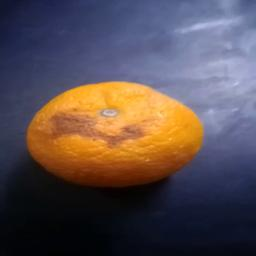Orange Semifresh: (24, 77, 206, 187)
